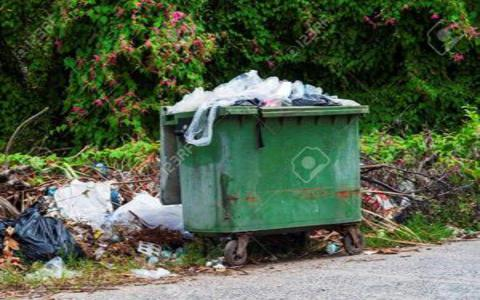overflowing garbage: (66, 69, 371, 273)
